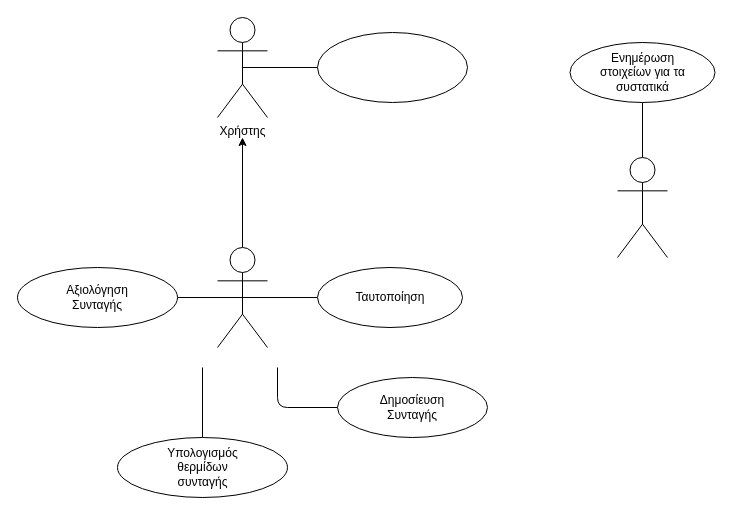
The diagram is 733 pixels wide and 515 high, and some of its shapes have lost their labels. The shapes that lost their labels are listed below. From the top down, each one's centre as x and y in pixels, then its label:
the point at 392,67: Αναζήτηση Συνταγών
the point at 642,207: Διαχειριστής
the point at 242,297: Εγγεγραμένος Χρήστης
